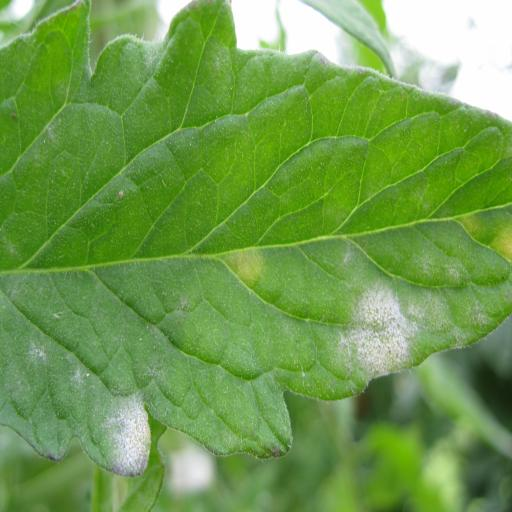Leaf Mold: (0, 5, 511, 484)
